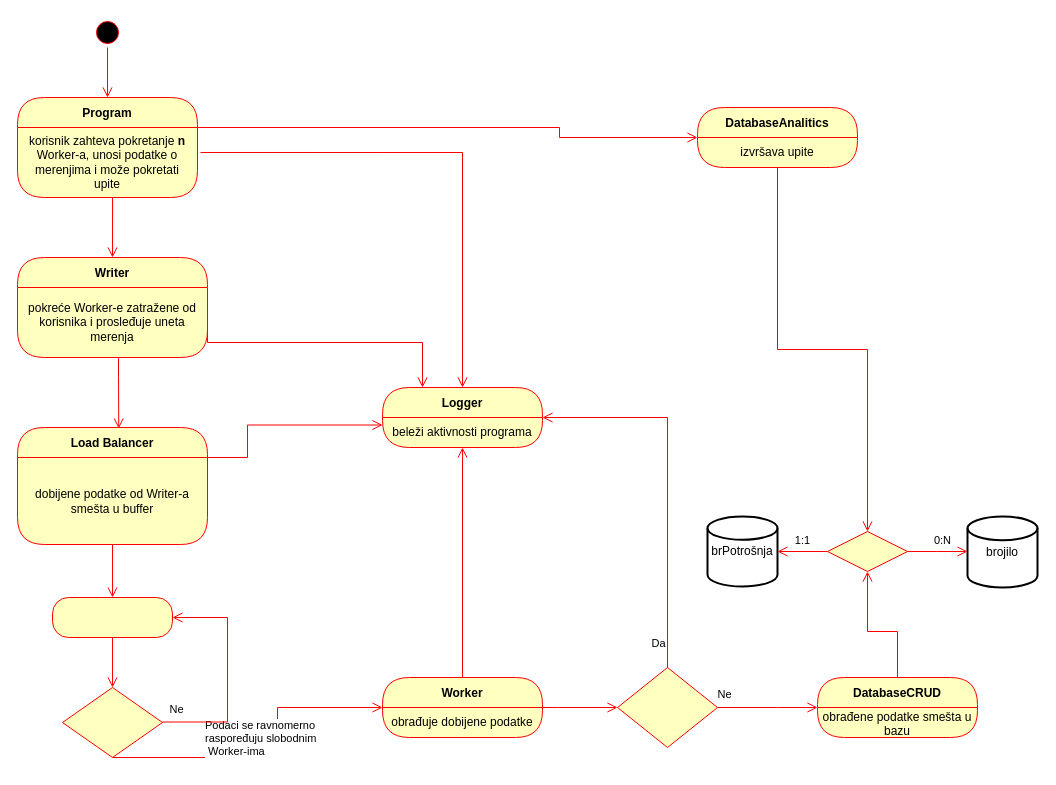
The diagram is 1056 pixels wide and 785 high, and some of its shapes have lost their labels. The centre of each missing label's shape, as x and y in pixels:
"10 ili više podataka" belongs at [112,722].
"Buffer" belongs at [112,617].
"ima" belongs at [867,551].
"upisivanje postojećeg podatke" belongs at [667,707].
